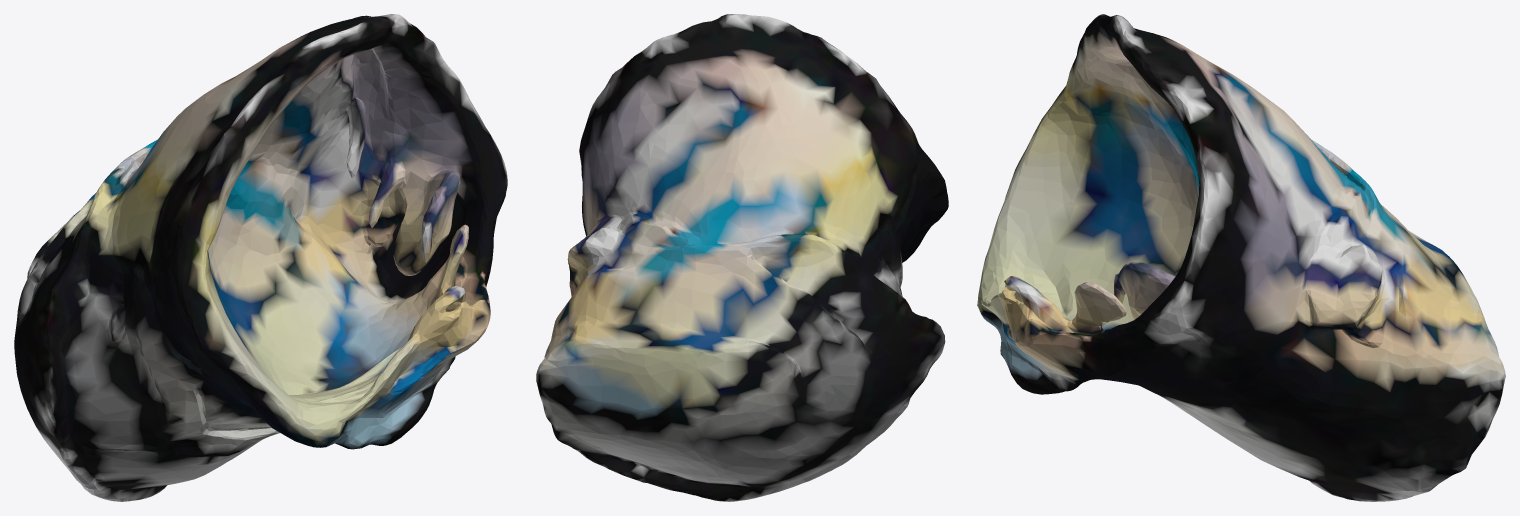
File: stew_mushroom.glb
The picture shows the model from 3 angles, left to right: view 1: azimuth 30°, elevation 25°; view 2: azimuth 150°, elevation 25°; view 3: azimuth 270°, elevation 25°; orthographic projection. The views are drawn at different scales.
Parts seen in each view (by area): view 1: geometry_0; view 2: geometry_0; view 3: geometry_0.
Boxes of the visible parts, x1=… form: geometry_0: x1=14, y1=14, x2=507, y2=501; geometry_0: x1=536, y1=14, x2=948, y2=501; geometry_0: x1=977, y1=14, x2=1505, y2=501.
Bounding box in the file's own units: 0.5312 × 0.5758 × 0.5549.
